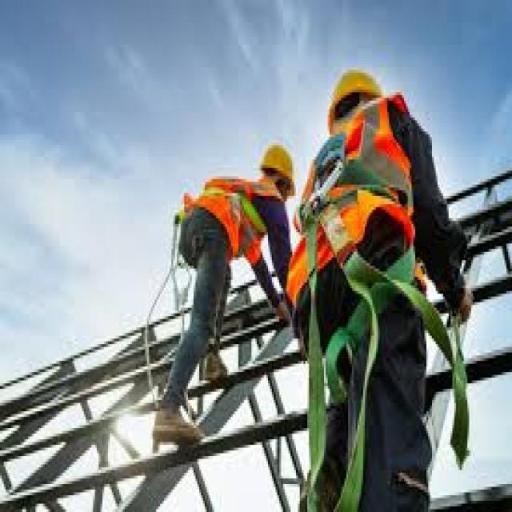helmet: (254, 134, 302, 199), (320, 64, 379, 114)
vest: (282, 87, 440, 311), (166, 165, 288, 274)
